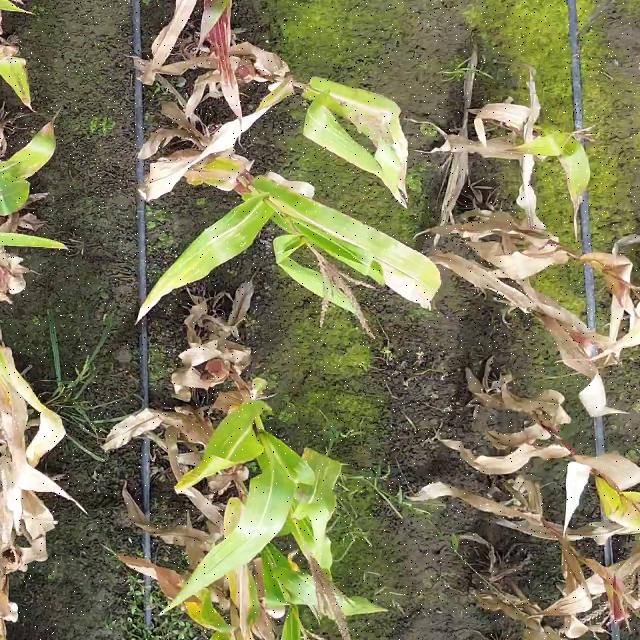gray-leaf-spot: (184, 217, 247, 276)
northern-leaf-blight: (329, 86, 408, 141), (272, 199, 375, 239)
